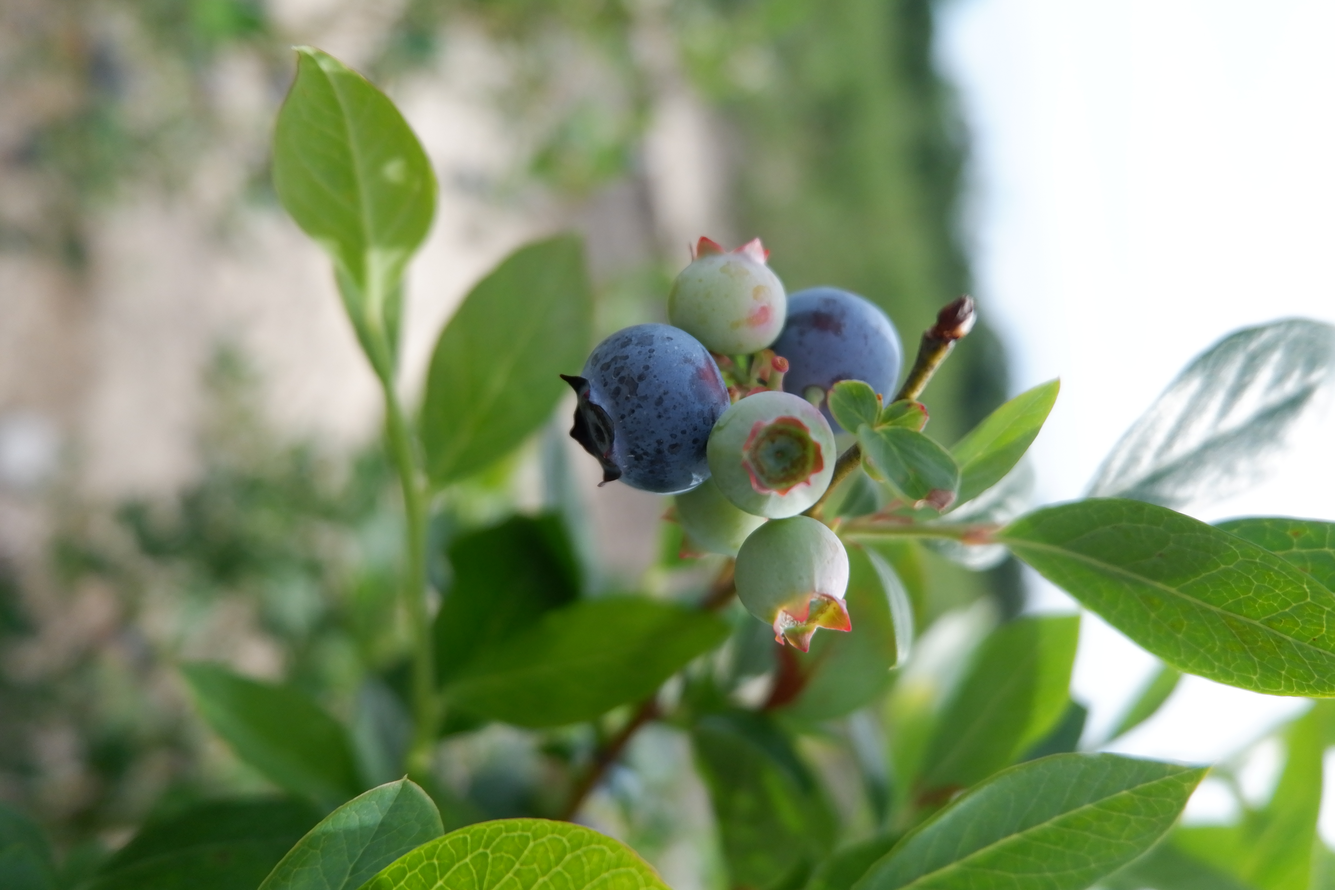Immature: (711, 395, 834, 515), (738, 520, 848, 650), (670, 239, 784, 354), (677, 482, 762, 557)
Mature: (567, 327, 725, 490), (776, 290, 898, 406)
